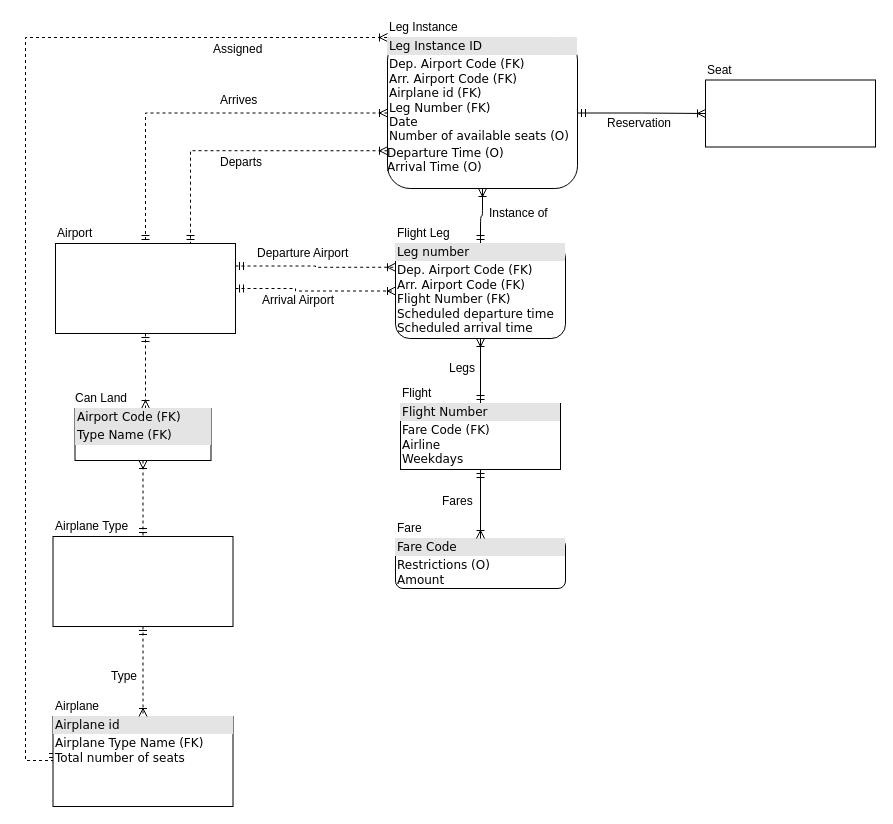
Some shapes in this 893 by 824 pixel diagram are drawn without their labels. Here are the shapes that lost their labels. From the top down, the centre of each, then its label:
At pixel 790 113: "Seat number Leg Instance ID (FK) Customer Name Customer Phone (O)".
At pixel 145 288: "Airport Code City State Name (O)".
At pixel 142 581: "Type Name Company (O) Max Seats (O)".
